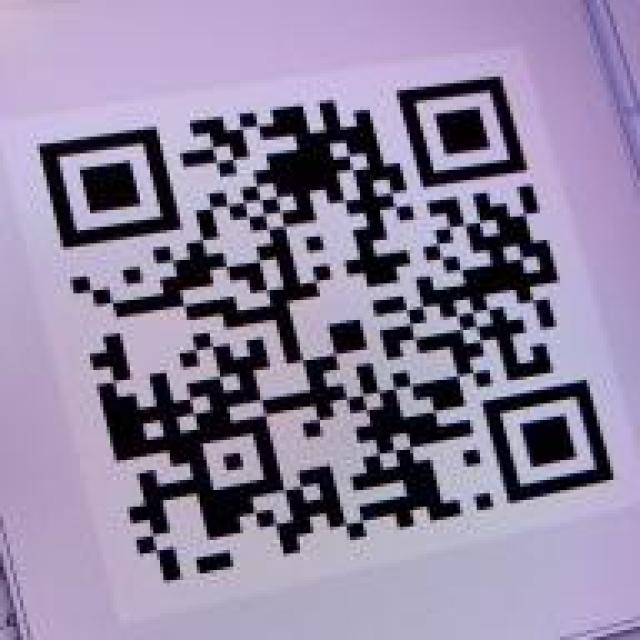QR_CODE: (25, 44, 620, 598)
